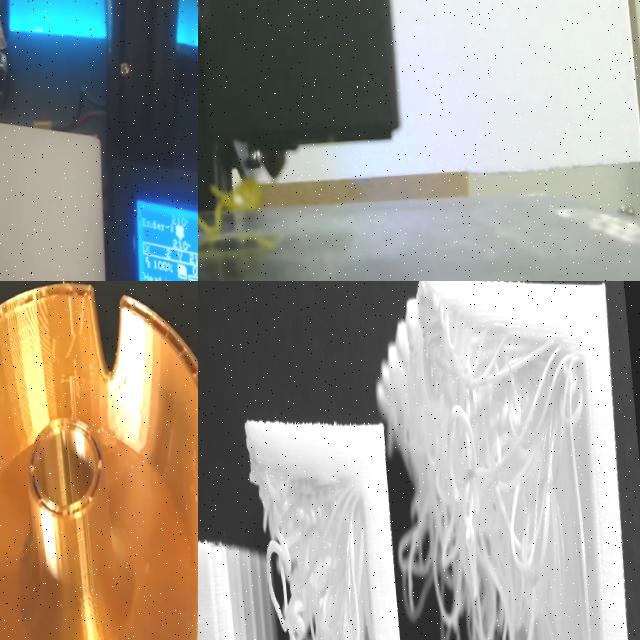spaghetti: (380, 353, 611, 640), (244, 460, 388, 640), (198, 178, 262, 248), (233, 235, 277, 248)
